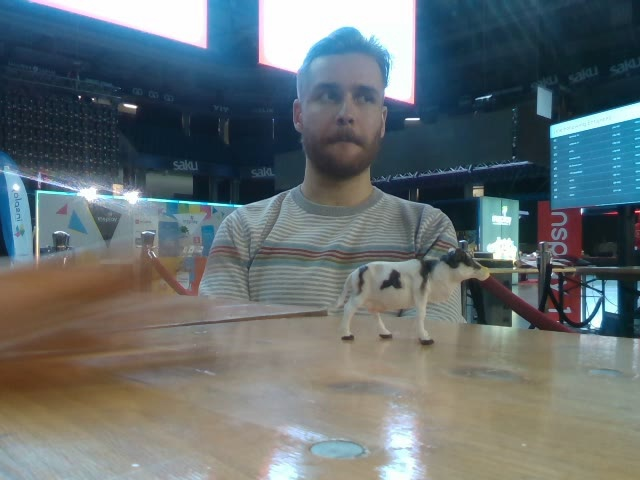toy: (330, 246, 489, 347)
